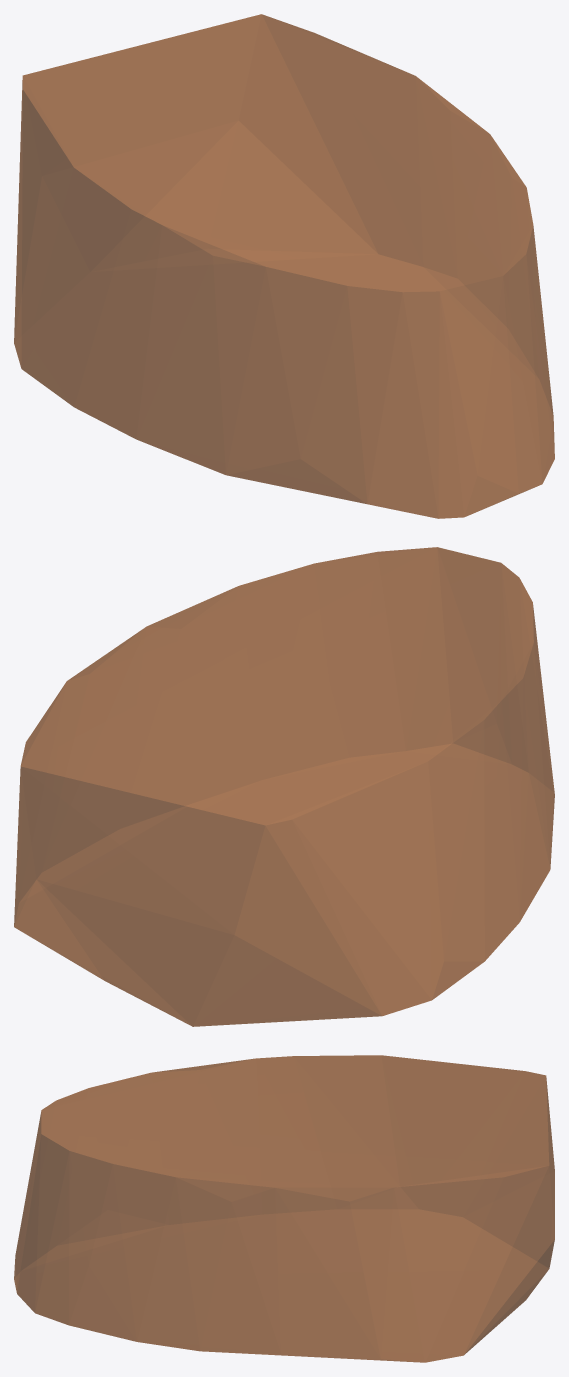
3 renders of one model, top to bottom at view 1: azimuth 30°, elevation 25°; view 2: azimuth 150°, elevation 25°; view 3: azimuth 270°, elevation 25°, orthographic. The views are drawn at different scales.
Visible parts, largest first — view 1: Shape_IndexedFaceSet.005_Shape_IndexedFaceSet.20382; view 2: Shape_IndexedFaceSet.005_Shape_IndexedFaceSet.20382; view 3: Shape_IndexedFaceSet.005_Shape_IndexedFaceSet.20382.
Part boxes in pixels (box(x1,y1,x2,y2)): Shape_IndexedFaceSet.005_Shape_IndexedFaceSet.20382: box(14, 14, 554, 518); Shape_IndexedFaceSet.005_Shape_IndexedFaceSet.20382: box(14, 547, 554, 1026); Shape_IndexedFaceSet.005_Shape_IndexedFaceSet.20382: box(14, 1055, 554, 1362).
Bounding box in the file's own units: 0.4326 × 0.2172 × 0.6346.
